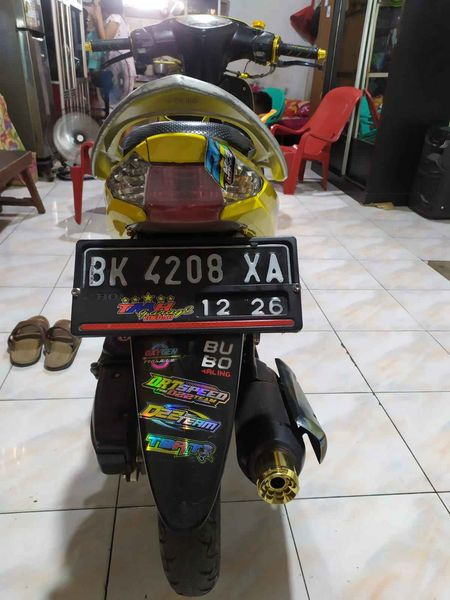plate: (75, 237, 302, 331)
